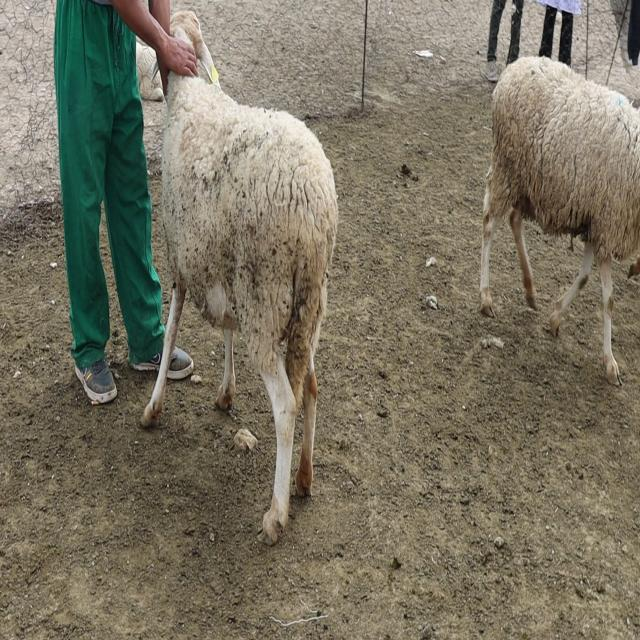Score_5: (141, 11, 338, 544)
